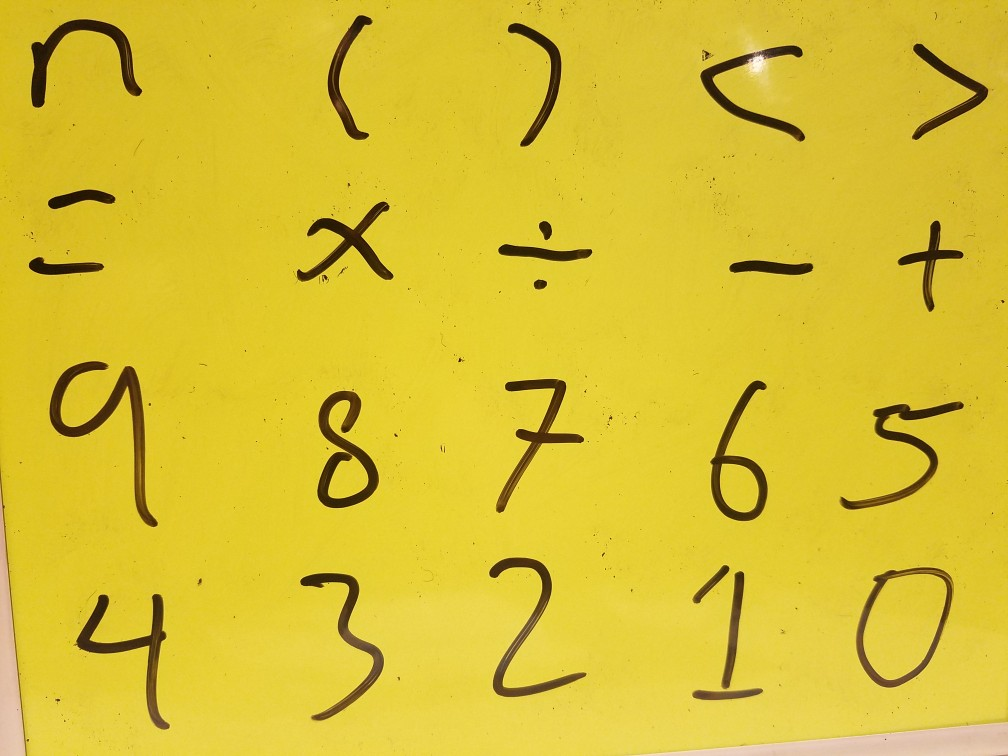(: (303, 9, 407, 153)
): (497, 4, 591, 173)
+: (885, 201, 963, 322)
-: (716, 240, 830, 298)
0: (835, 558, 960, 695)
1: (683, 551, 776, 712)
2: (460, 538, 598, 703)
3: (287, 554, 392, 729)
4: (70, 573, 198, 736)
5: (841, 381, 968, 522)
6: (693, 364, 783, 530)
7: (486, 358, 585, 522)
8: (291, 370, 397, 516)
9: (40, 351, 169, 529)
<: (685, 20, 816, 168)
=: (18, 169, 135, 304)
>: (893, 28, 997, 163)
div: (489, 210, 606, 305)
n: (24, 9, 156, 127)
x: (285, 198, 405, 295)
